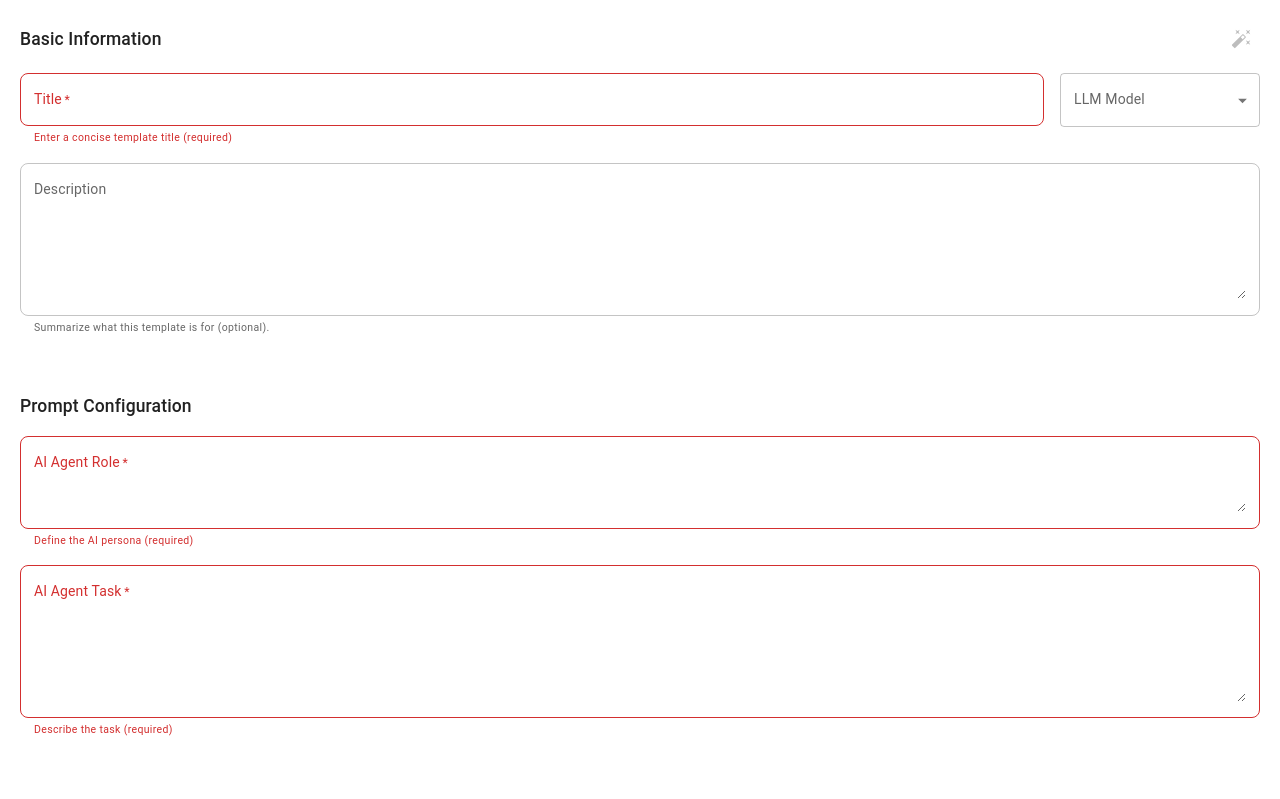
CreateTemplateForm model picker › lists the backend registry, including local Ollama models
This screenshot has width=1280, height=799.
Press the mouse on the dropdown at (1160, 100), box [1060,73,1260,127]
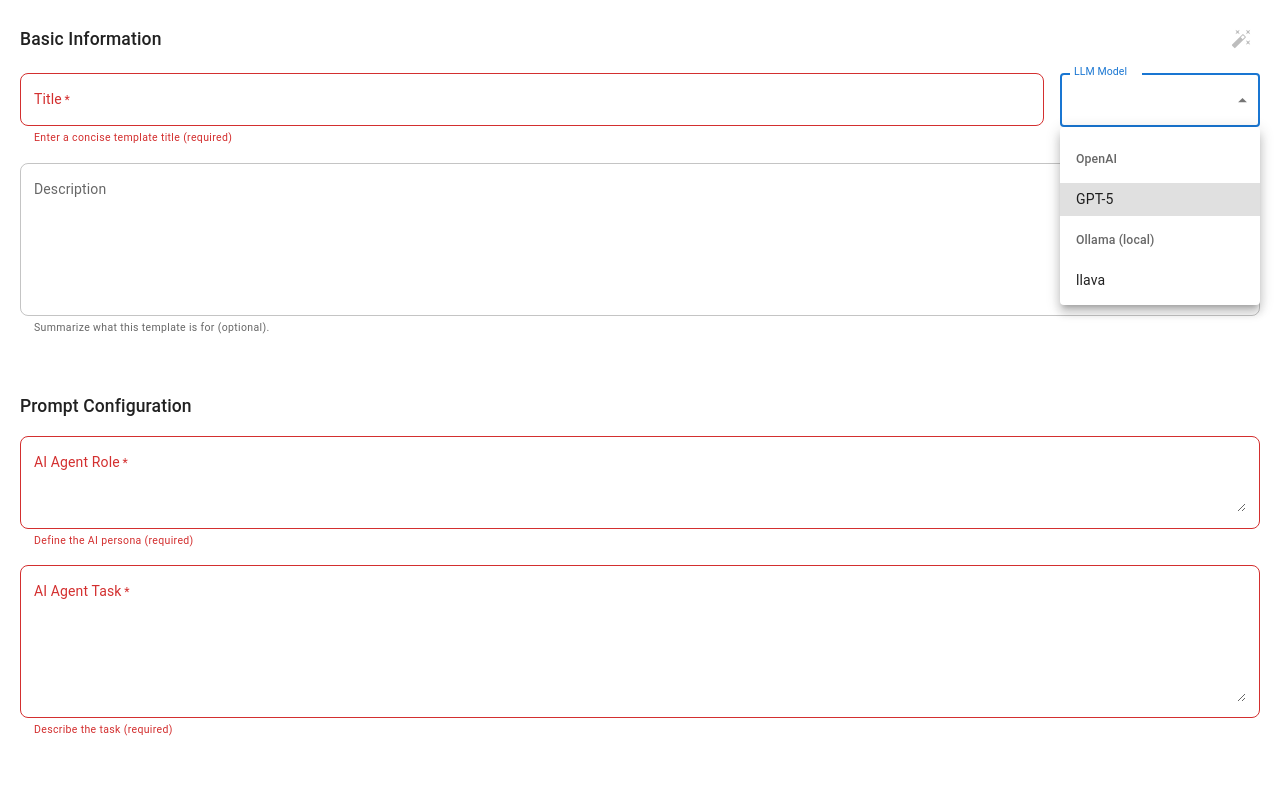
Check: the option "llava" is shown, box [1076,272,1105,288]
Check: the option "GPT-5" is shown, box [1060,183,1260,216]
Check: the option "Ollama (local)" is shown, box [1060,216,1260,264]
